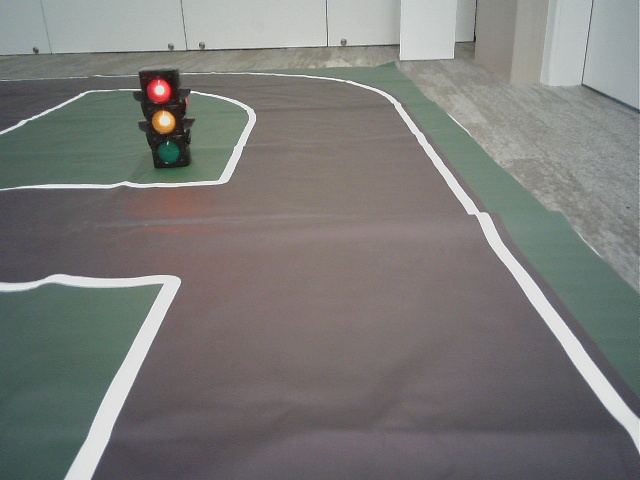red: (140, 75, 185, 165)
